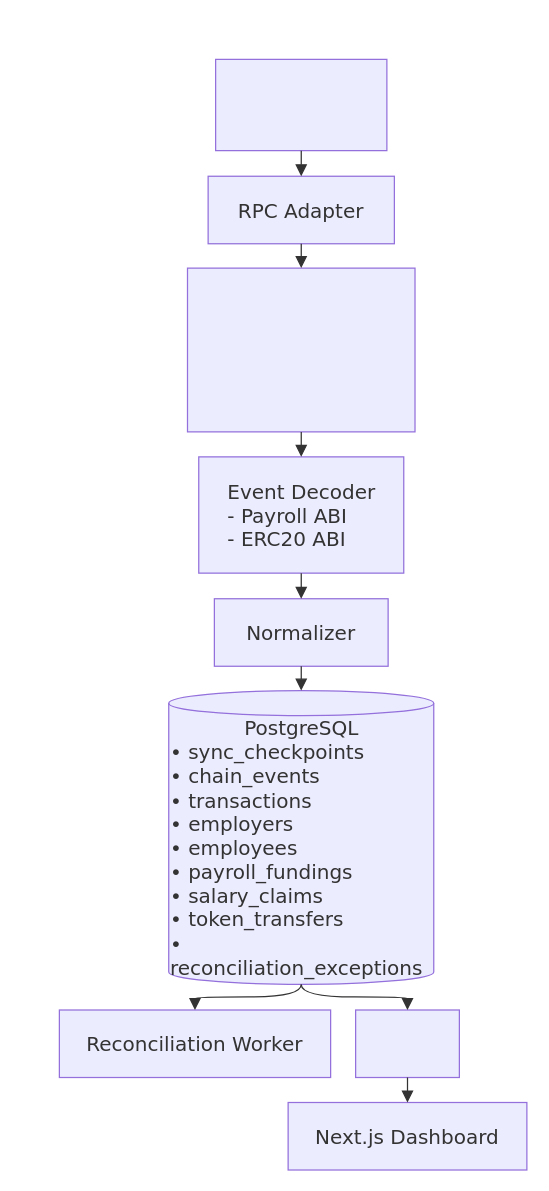
This 549x1191 diagram has some shape labels left out. Each missing label, with the box of its shape:
API: (354, 1009, 459, 1078)
Sepolia Blockchain: (214, 58, 387, 151)
Sync Coordinator - Backfill - Live Sync - Retry - Checkpoint: (186, 267, 415, 432)
